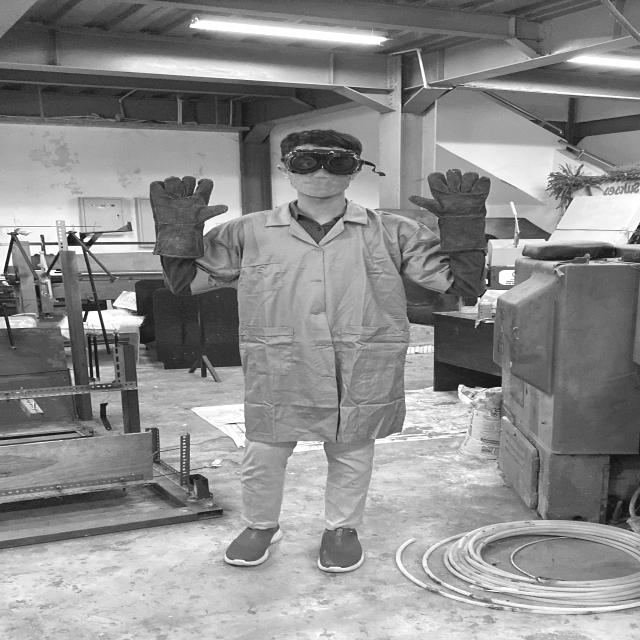face_mask: (286, 150, 360, 198)
glasses: (277, 145, 368, 179)
hand_glove: (398, 166, 501, 224), (143, 174, 235, 232)
head_nohelmet: (276, 123, 370, 156)
person: (139, 120, 503, 583)
shoes: (307, 514, 375, 578), (216, 515, 292, 571)
